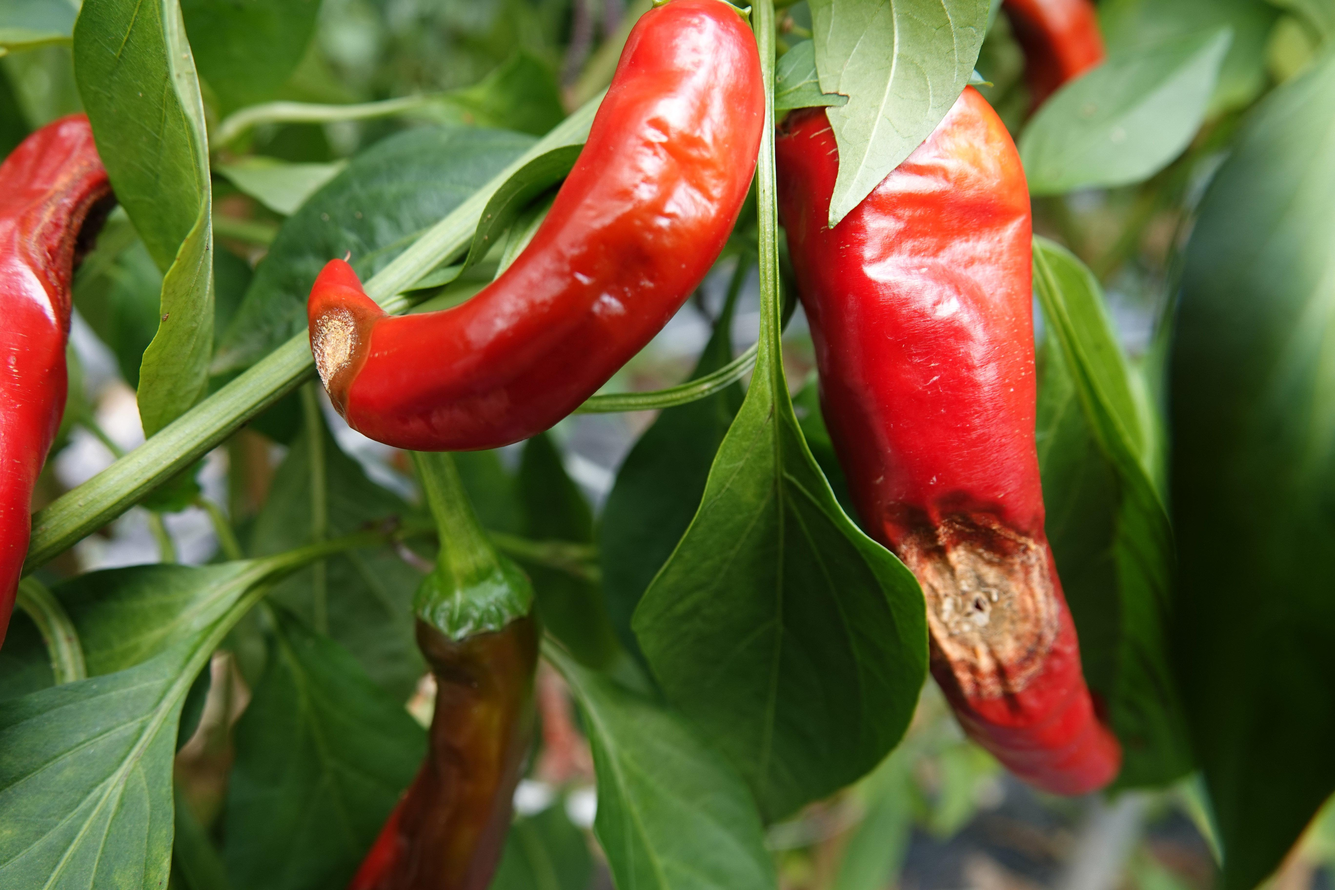Busuk Buah Antraknosa: (773, 79, 1125, 798), (304, 1, 767, 454)
